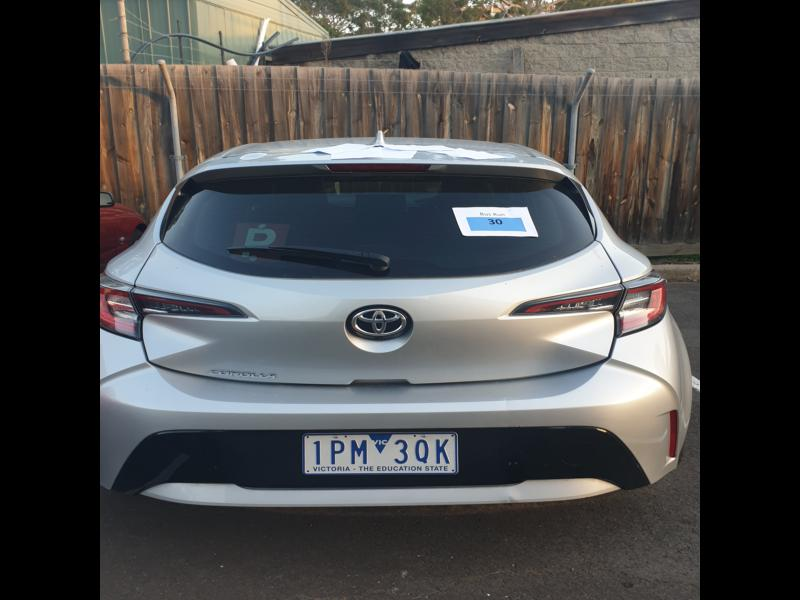BusRun: (470, 139, 570, 170)
PlateNo: (226, 448, 405, 533)
